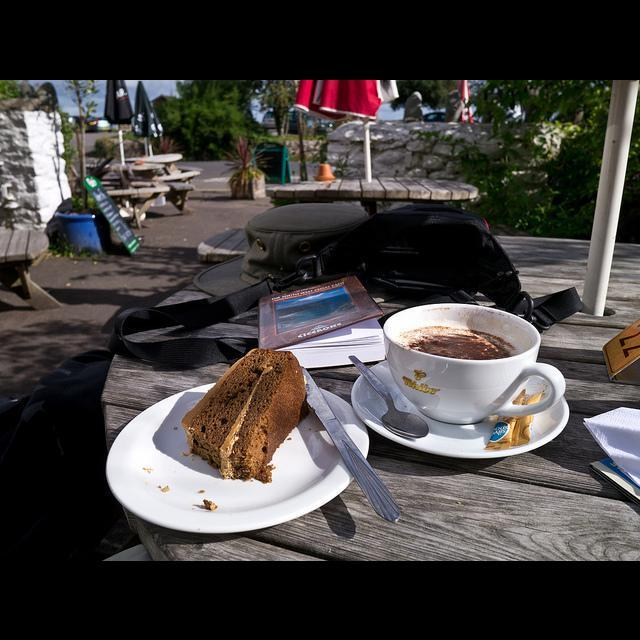bench: (0, 229, 64, 311), (106, 180, 170, 228), (198, 228, 250, 264), (158, 166, 202, 182)
book: (258, 274, 387, 366)
cake: (179, 344, 305, 484)
cup: (382, 302, 566, 426)
dining table: (108, 227, 640, 561), (265, 176, 479, 198)
handbag: (112, 205, 582, 368)
knife: (301, 366, 405, 526)
person: (444, 88, 468, 124)
potted plant: (214, 130, 278, 200)
spoon: (346, 357, 432, 439)
umbrella: (294, 80, 398, 184), (132, 83, 164, 139), (104, 82, 132, 126)
